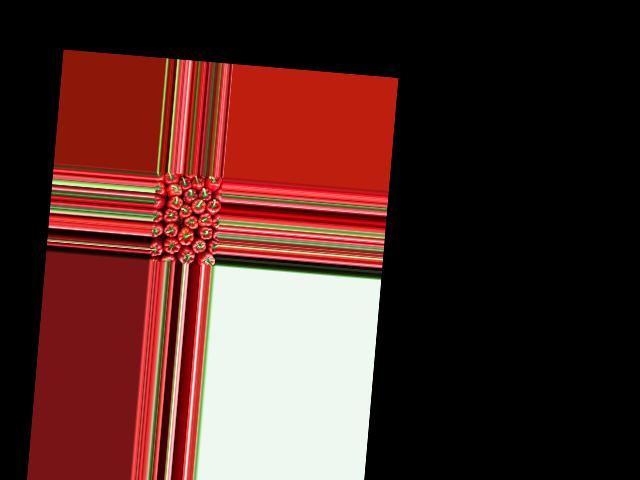bell_pepper: (206, 176, 222, 191)
